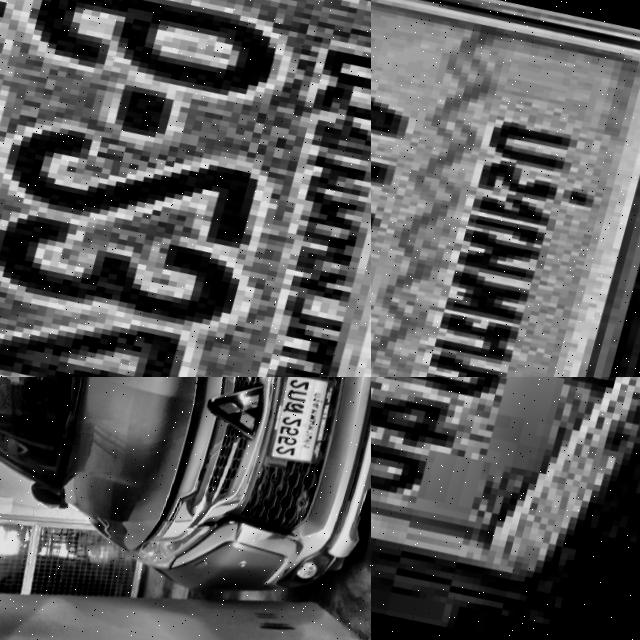license-plate: (0, 0, 371, 377), (371, 0, 640, 377), (371, 377, 640, 640), (261, 377, 340, 476)
